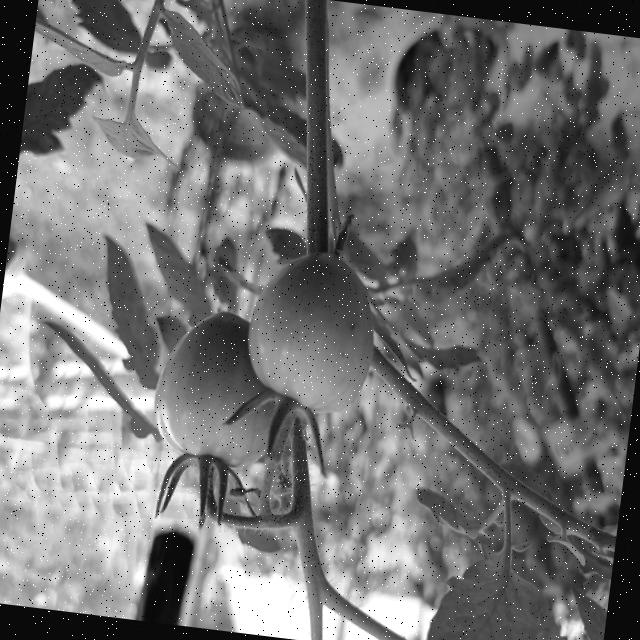Unripe: (146, 302, 292, 476), (237, 244, 382, 418)
